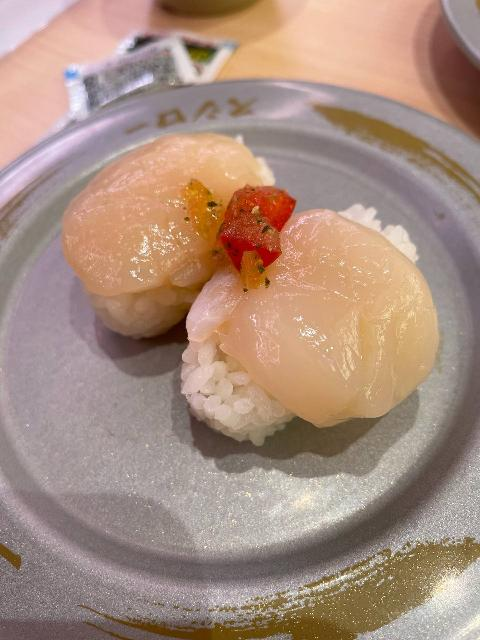janwhite: (0, 78, 480, 589), (429, 0, 480, 101)
